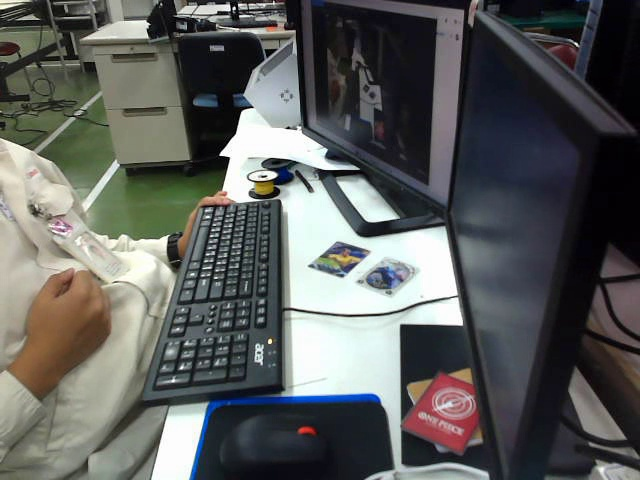can: (363, 255, 427, 296)
